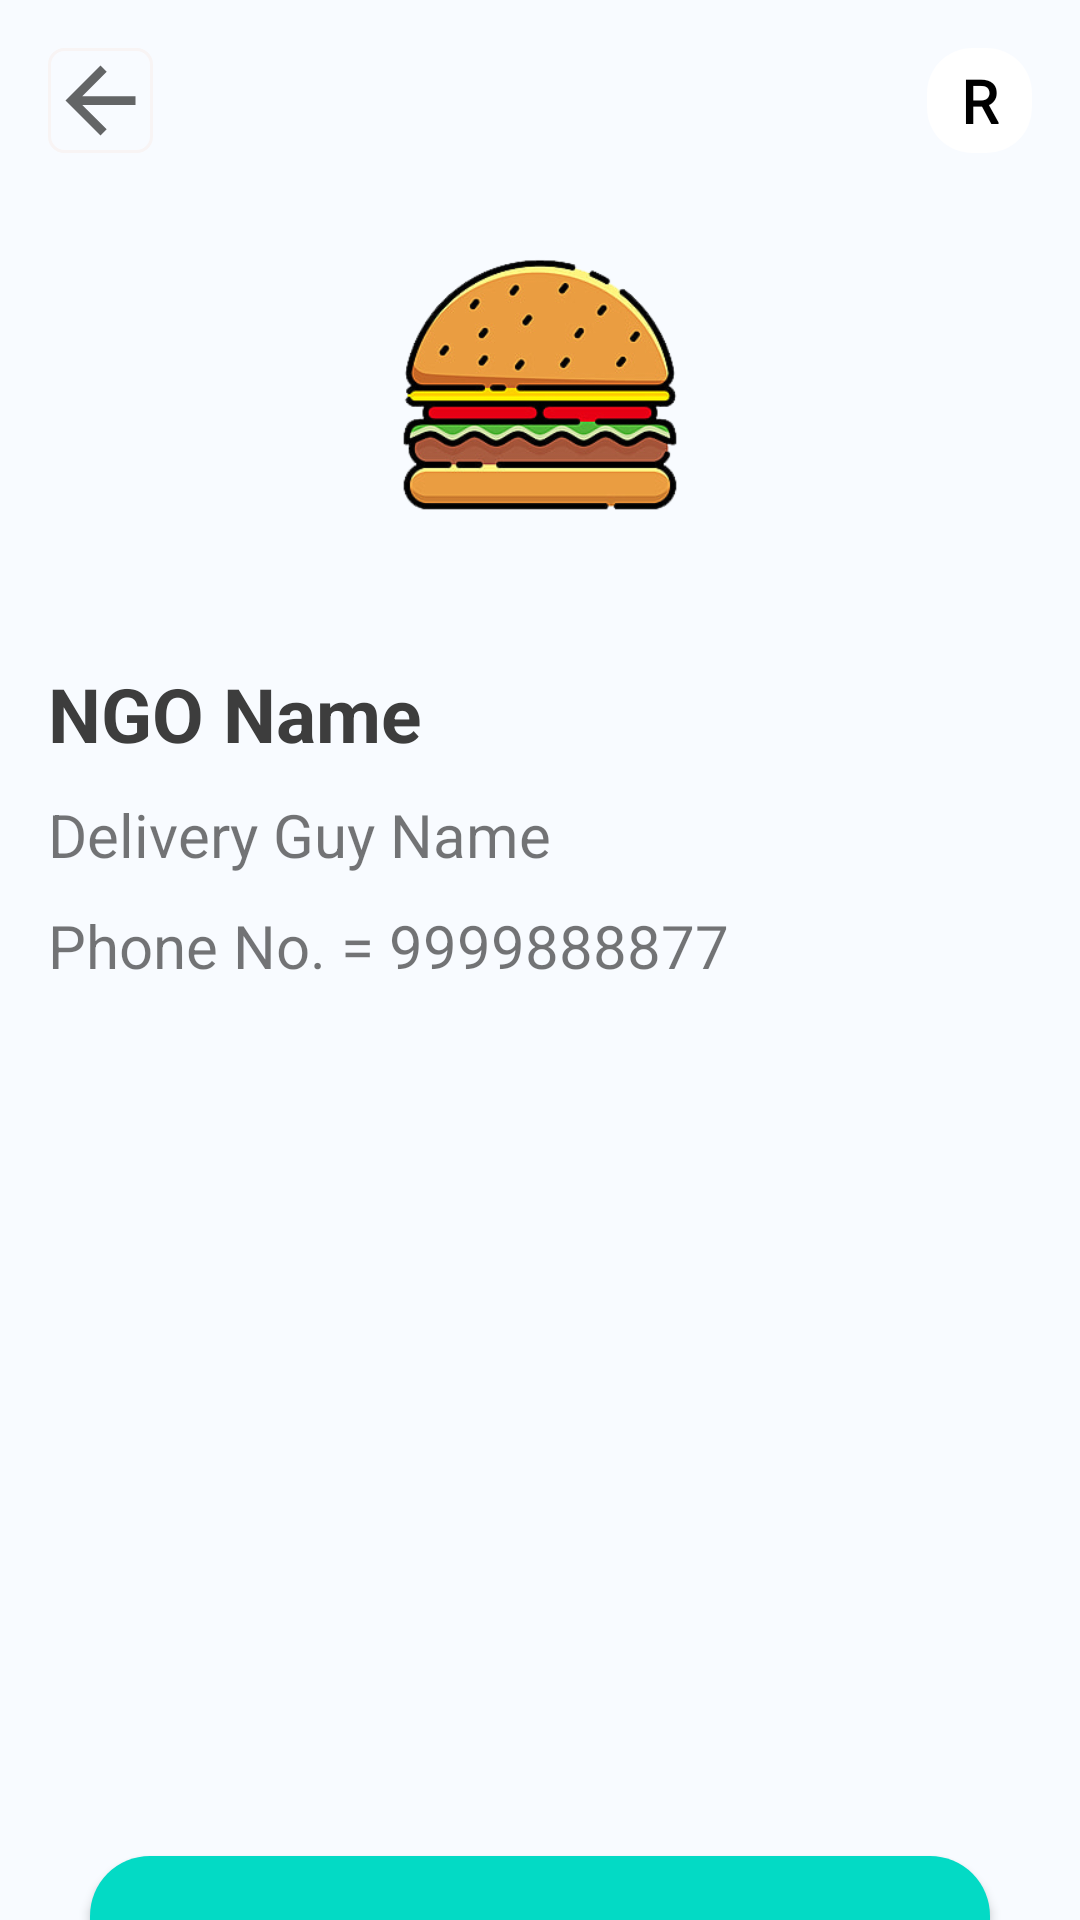

Icon bounding boxes for this 1080px×1920px phone screenshot, format (x1, y1, x2, y2):
arrow back: (65, 65, 136, 136)
burgerlisting: (403, 260, 677, 510)
